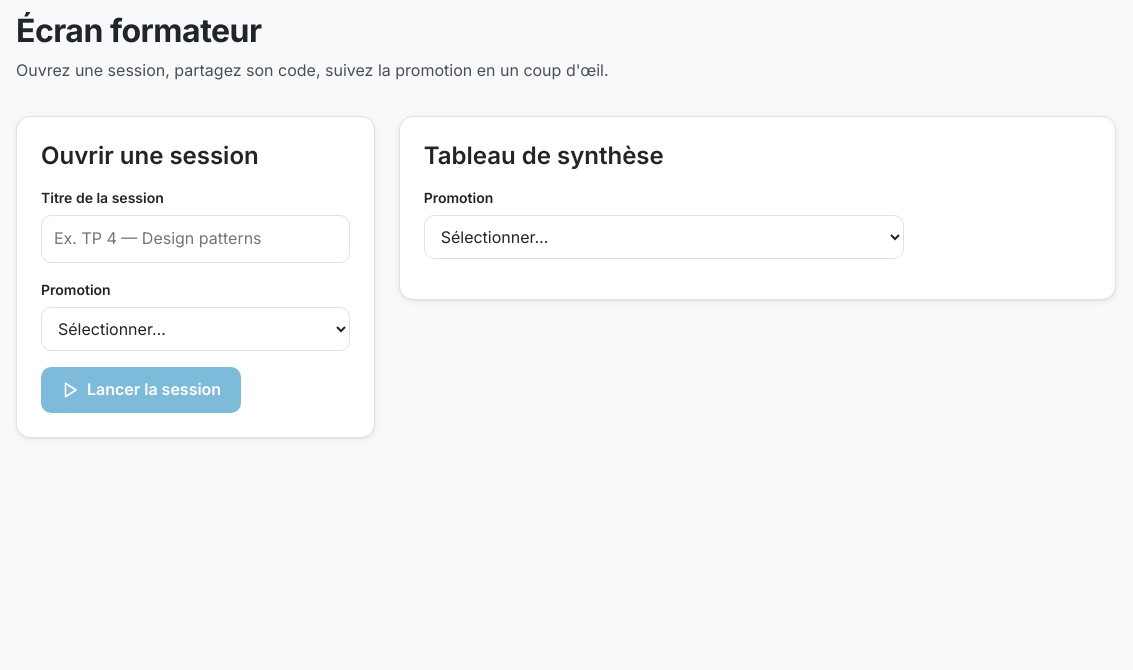
Test case: FormateurPage › l'ouverture de session affiche le code généré
Type "TP 4 — Design patterns" into the field labelled "Titre de la session" at [195, 239], box [41, 215, 350, 263]
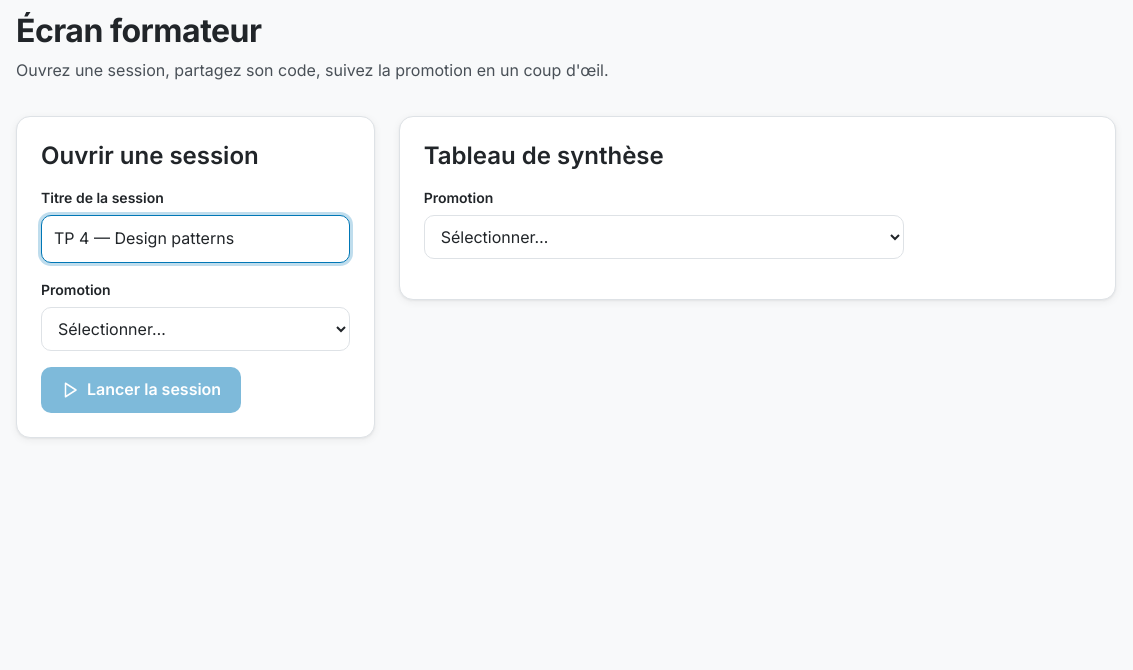
Select "L3 GL" in the dropdown labelled "Promotion" below "Titre de la session" at [195, 329], box [41, 307, 350, 351]
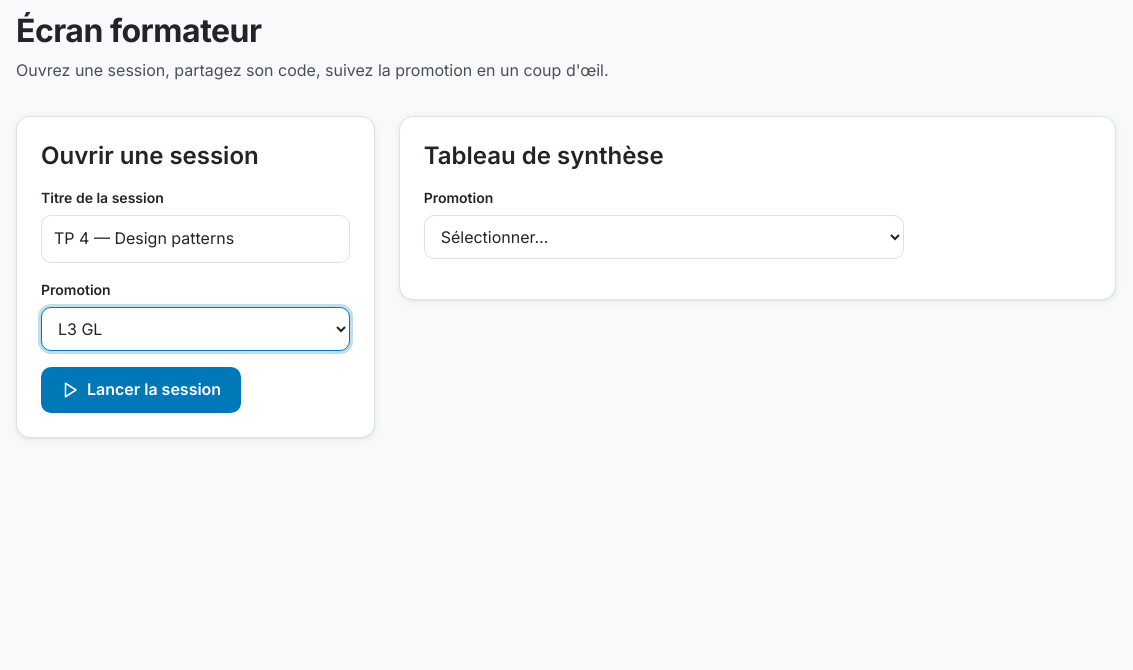
Click the button "Lancer la session" at [141, 390], box [41, 367, 241, 413]
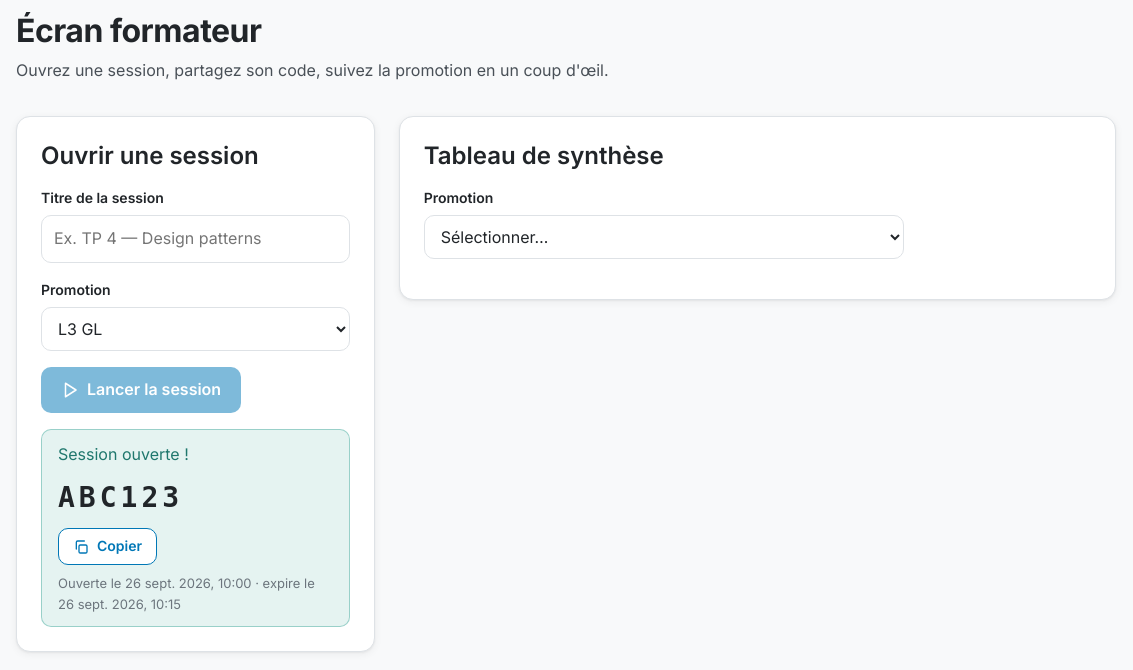
Check: the text "ABC123" is shown, box [58, 476, 183, 520]
